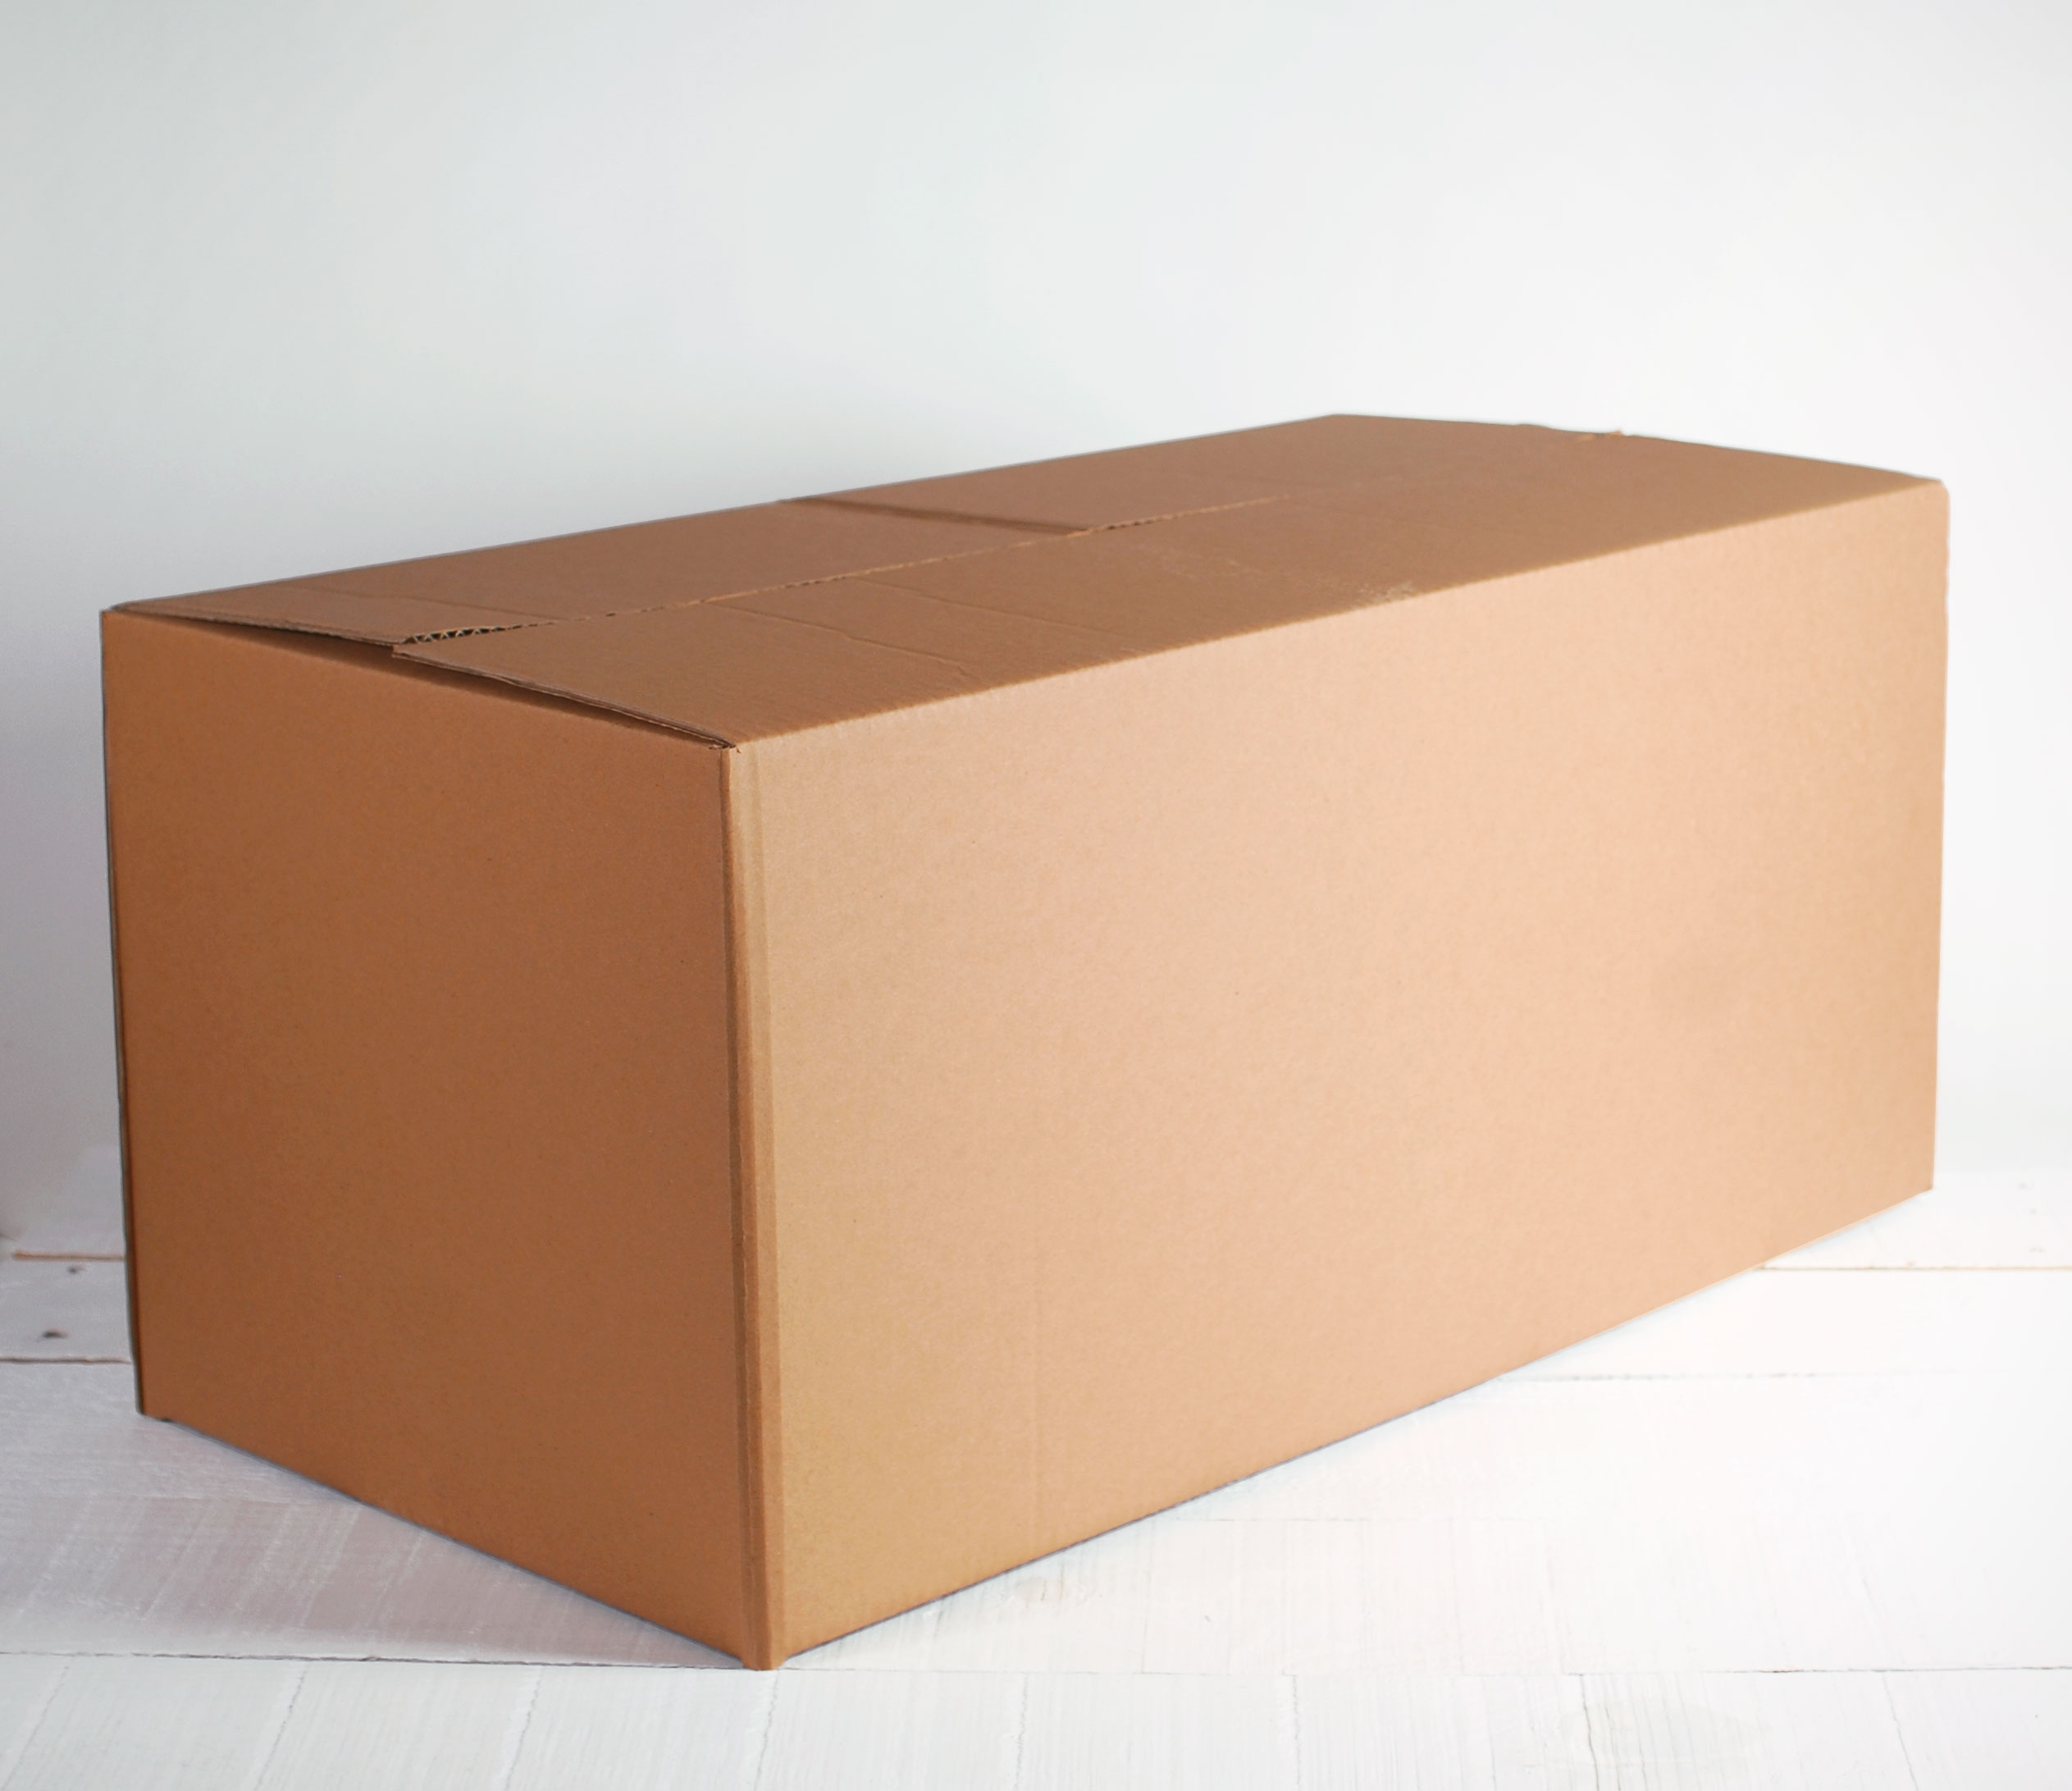Rec_Paper: (69, 286, 2003, 1703)
